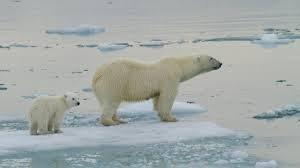bear: (90, 43, 225, 131), (23, 91, 85, 143)
